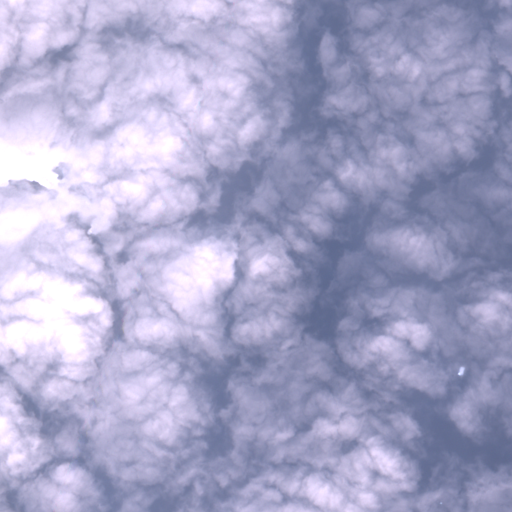Iceberg: (458, 367, 464, 375), (440, 502, 441, 503)
